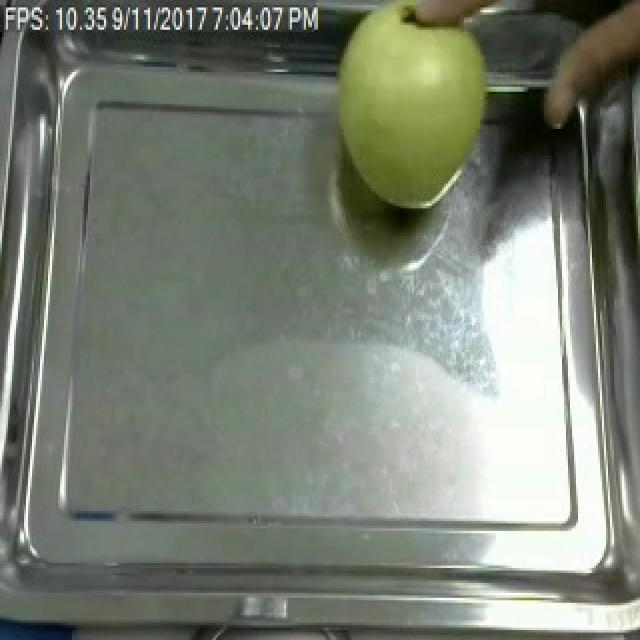Fruit: (324, 0, 502, 216)
